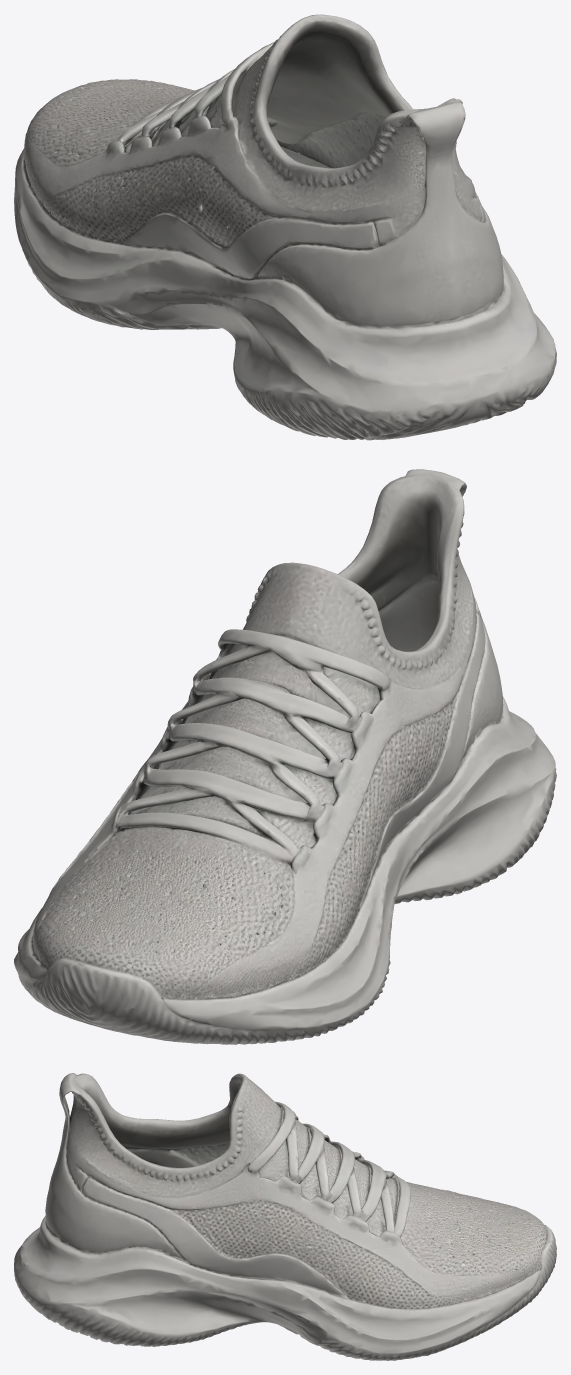
The picture shows the model from 3 angles, top to bottom: view 1: azimuth 30°, elevation 25°; view 2: azimuth 150°, elevation 25°; view 3: azimuth 270°, elevation 25°; orthographic projection. The views are drawn at different scales.
Parts seen in each view (by area): view 1: tripo_node_cde608e3-e2a6-4436-8f9a-73837168f51b; view 2: tripo_node_cde608e3-e2a6-4436-8f9a-73837168f51b; view 3: tripo_node_cde608e3-e2a6-4436-8f9a-73837168f51b.
Boxes of the visible parts, x1=… form: tripo_node_cde608e3-e2a6-4436-8f9a-73837168f51b: x1=14, y1=14, x2=556, y2=440; tripo_node_cde608e3-e2a6-4436-8f9a-73837168f51b: x1=14, y1=469, x2=556, y2=1044; tripo_node_cde608e3-e2a6-4436-8f9a-73837168f51b: x1=14, y1=1073, x2=556, y2=1360.
Size of the model in its own units: 0.4639 by 0.4806 by 1.
1 material, 1 textured.
